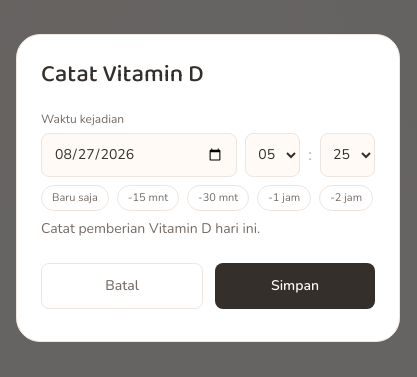
Test case: QuickLogSheet — save/error handling › clears the previous error before a retry, rather than stacking messages
Click the button "Simpan": coordinates (295, 286) [215,263,375,309]
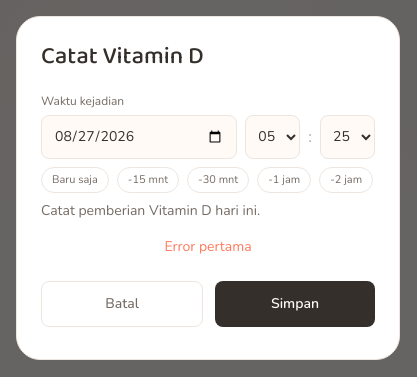
Result: the text "Error pertama" is shown at [164,237,252,256]
Click the button "Simpan": coordinates (295, 304) [215,281,375,327]
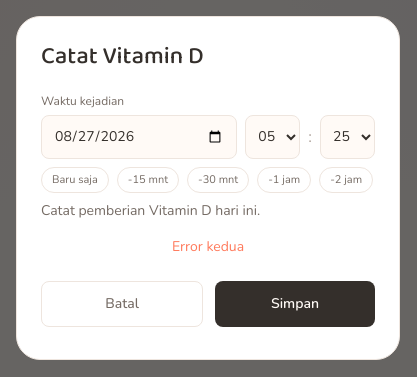
Result: the text "Error kedua" is shown at [172,237,244,256]
Result: the text "Error pertama" is gone
